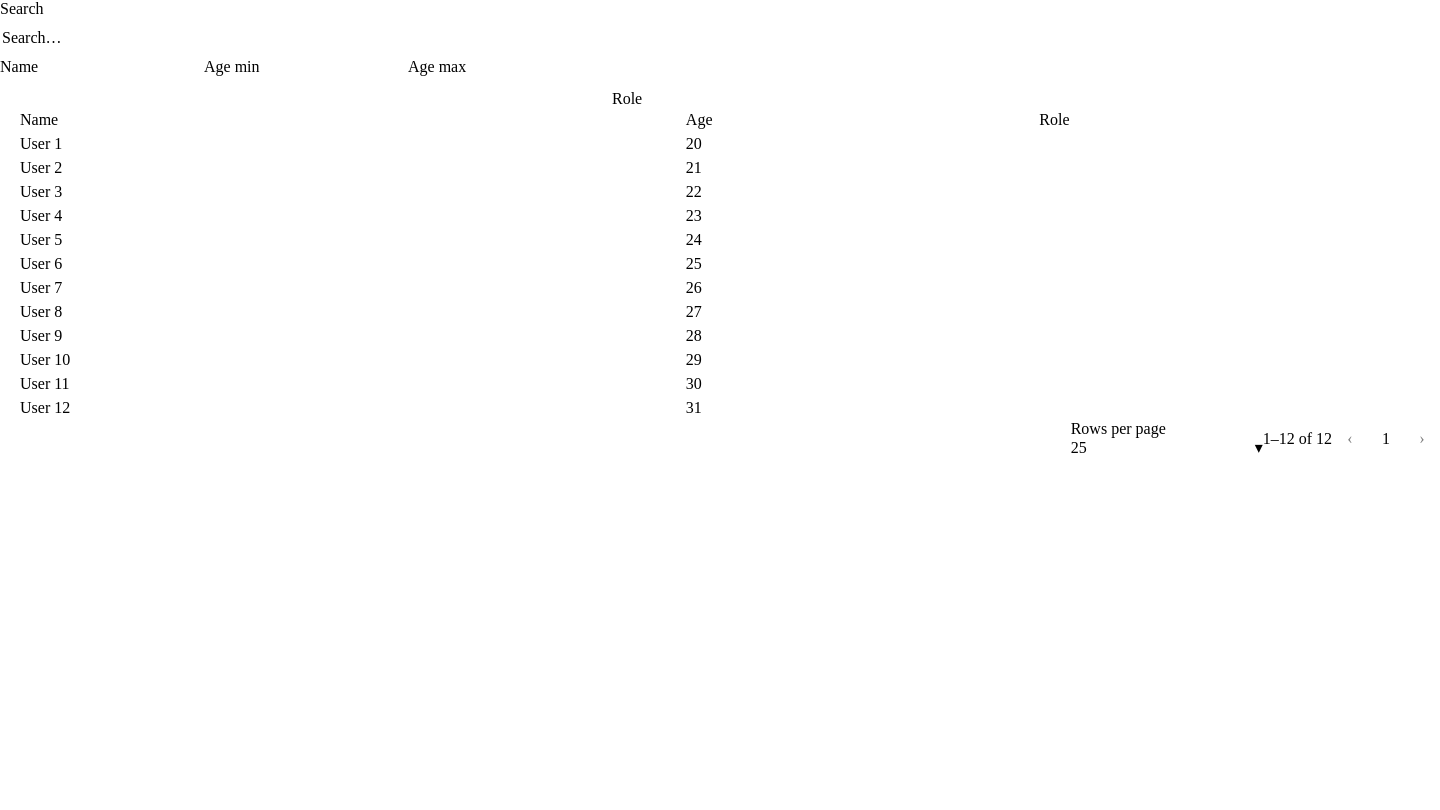
multi-select enum filter toggles values via checkboxes
The image size is (1440, 810).
Click the button "Role": coordinates (627, 99) [612,90,642,108]
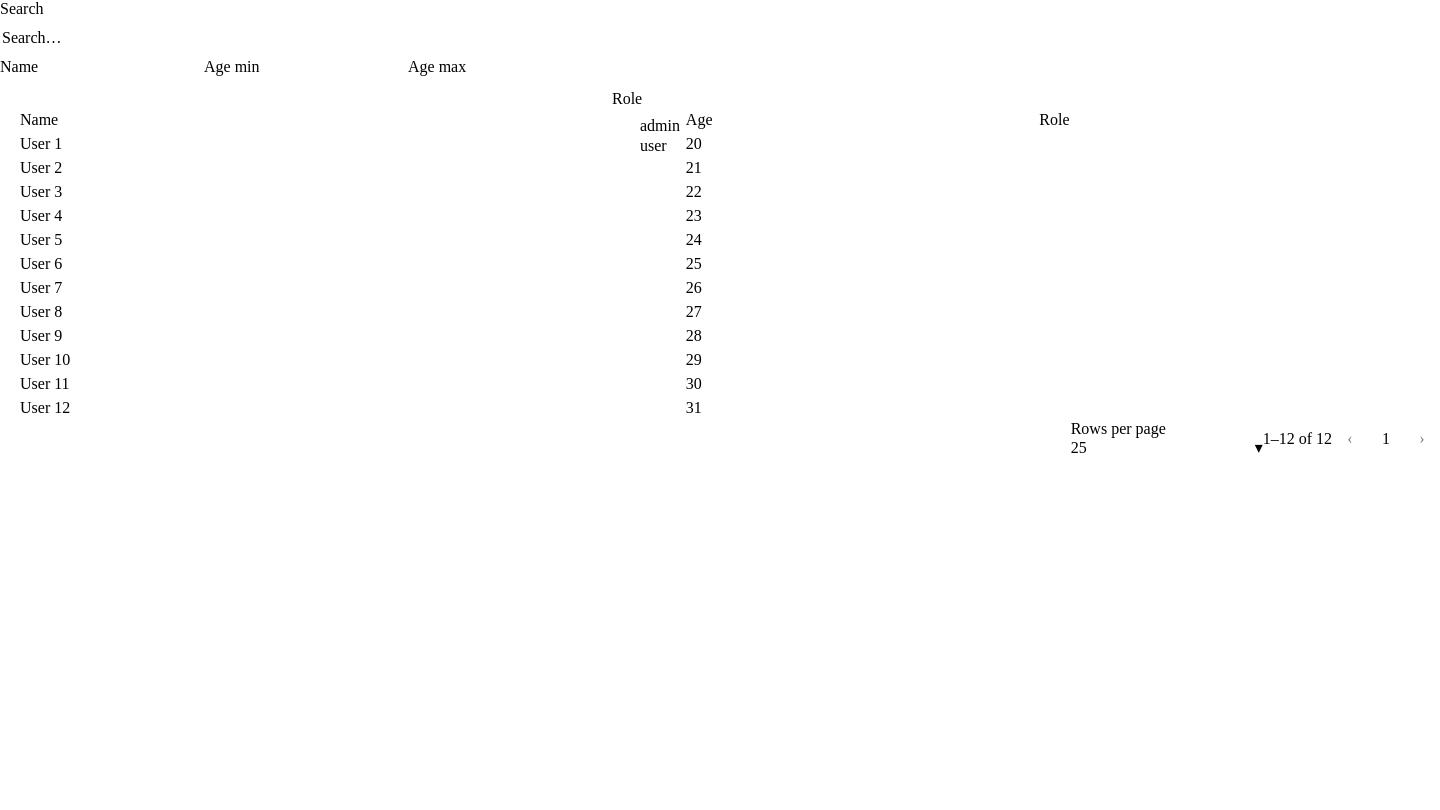
Click the 2nd checkbox labelled "admin": coordinates (660, 126) [640,117,680,134]
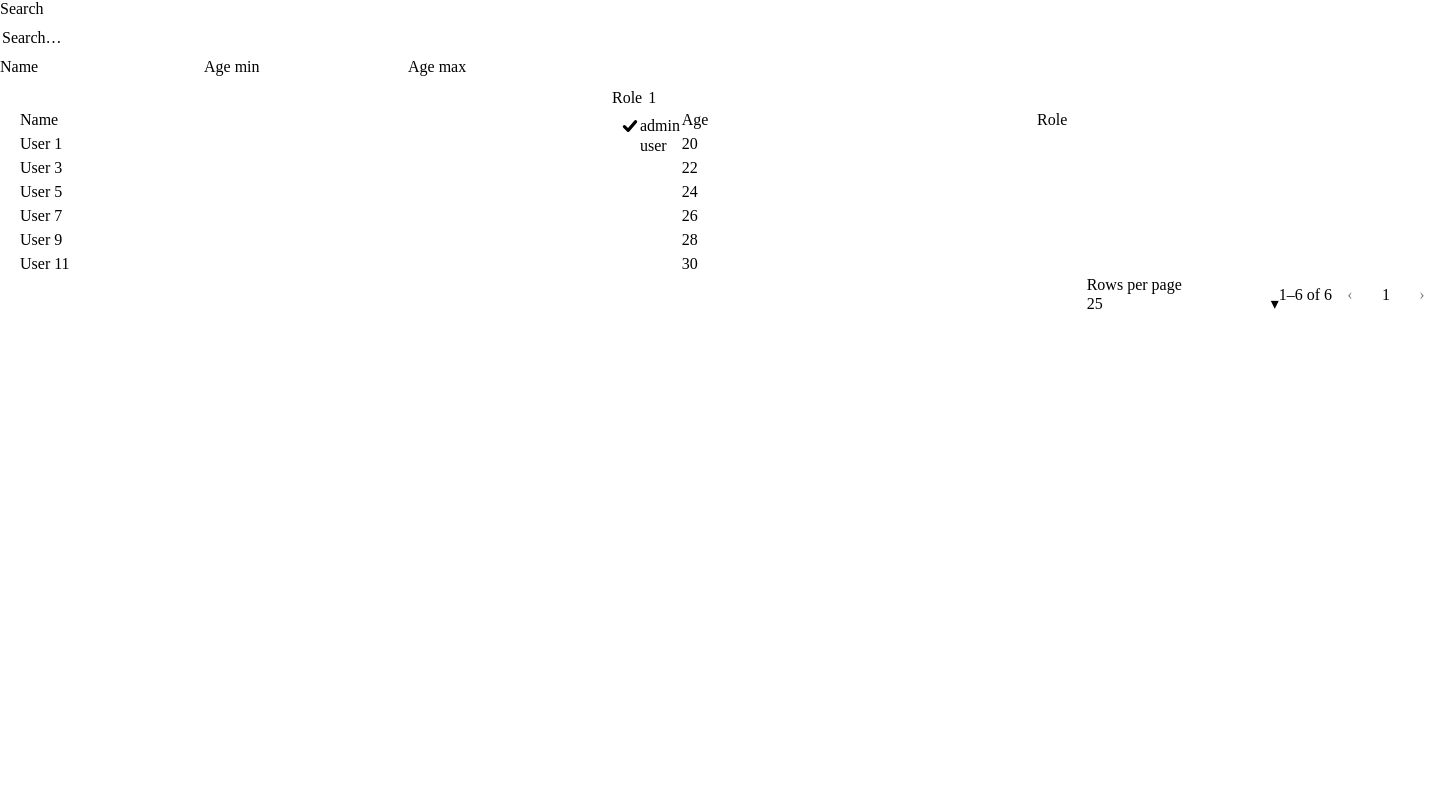
Check: the text "User 1" is shown, box [20,132,682,156]
Check: the text "User 2" is gone
